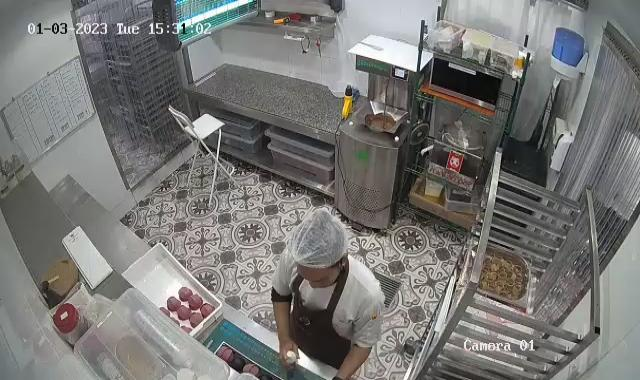hairnet: (286, 208, 349, 278)
